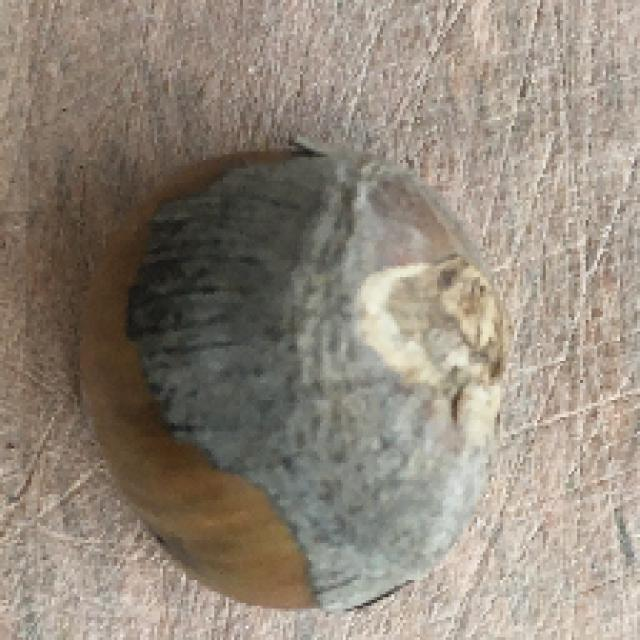damagedHazelnut: (75, 141, 500, 617)
